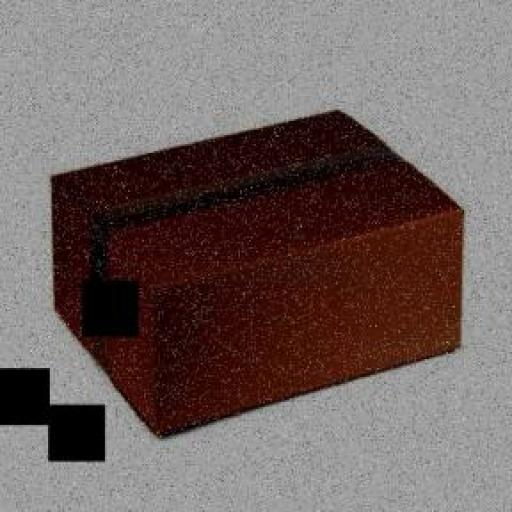box: (44, 94, 490, 446)
